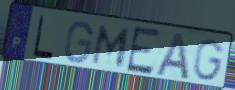A: (154, 31, 191, 82)
E: (125, 25, 164, 77)
G: (192, 38, 226, 83), (63, 20, 95, 65)
L: (31, 14, 55, 62)
M: (89, 23, 133, 68)
